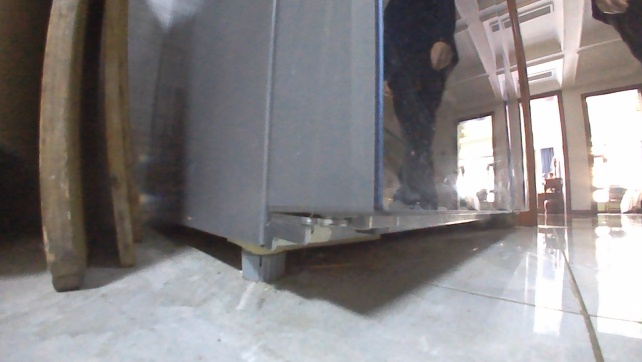refrigerator1: (126, 0, 532, 288)
